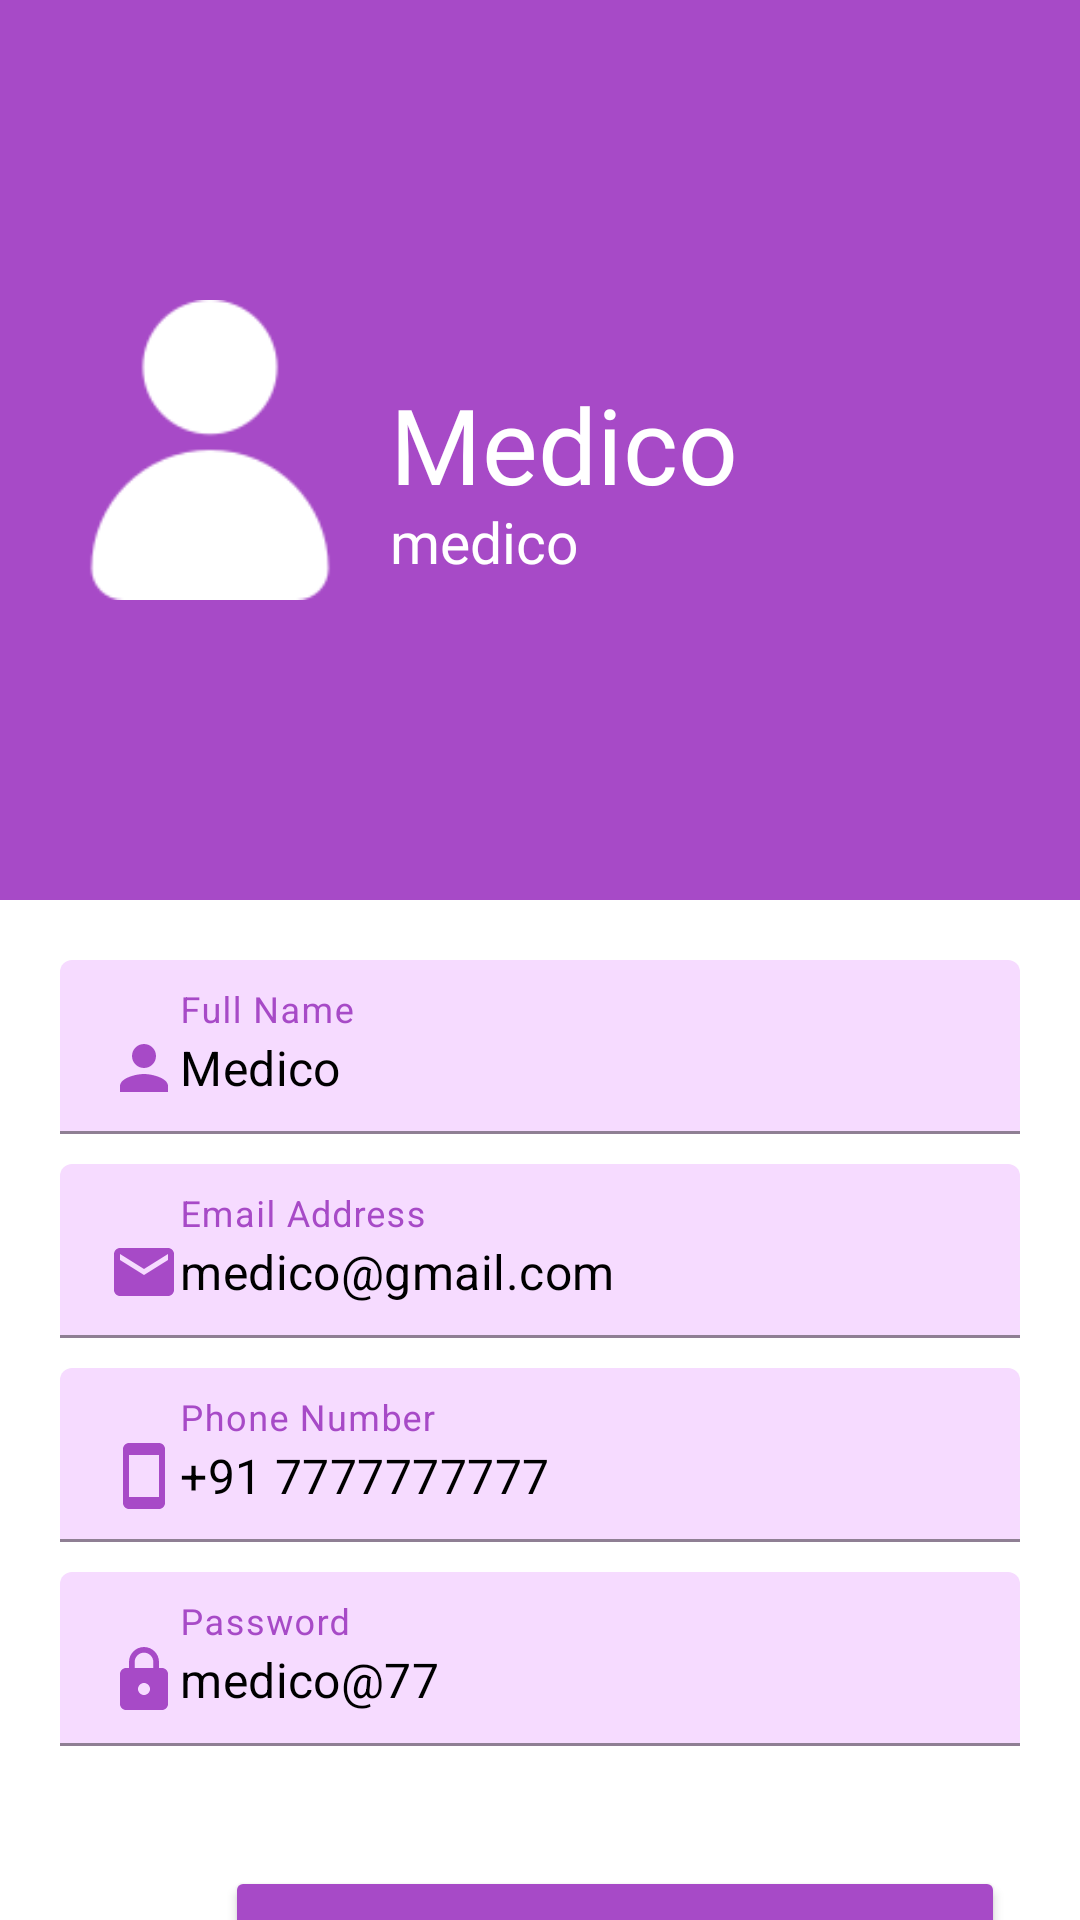

Icon click points for this 1080w x 1920h phone screenshot, format point (x, y):
profileimg: point (210, 450)
